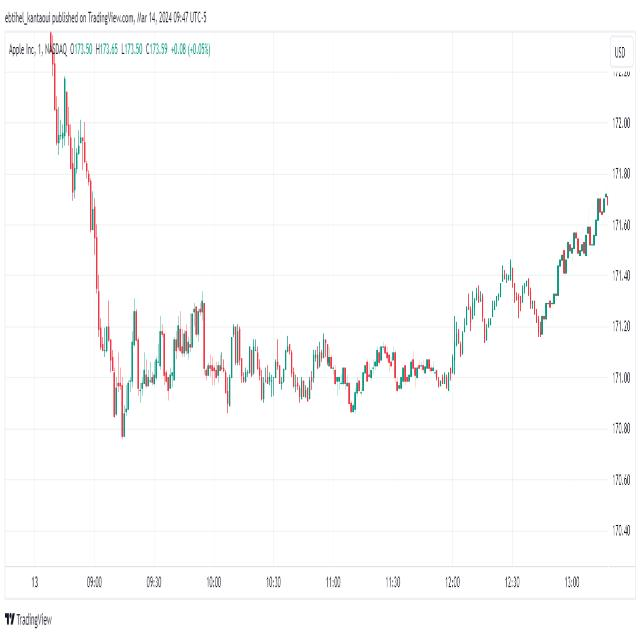rectangle: (202, 321, 396, 417)
